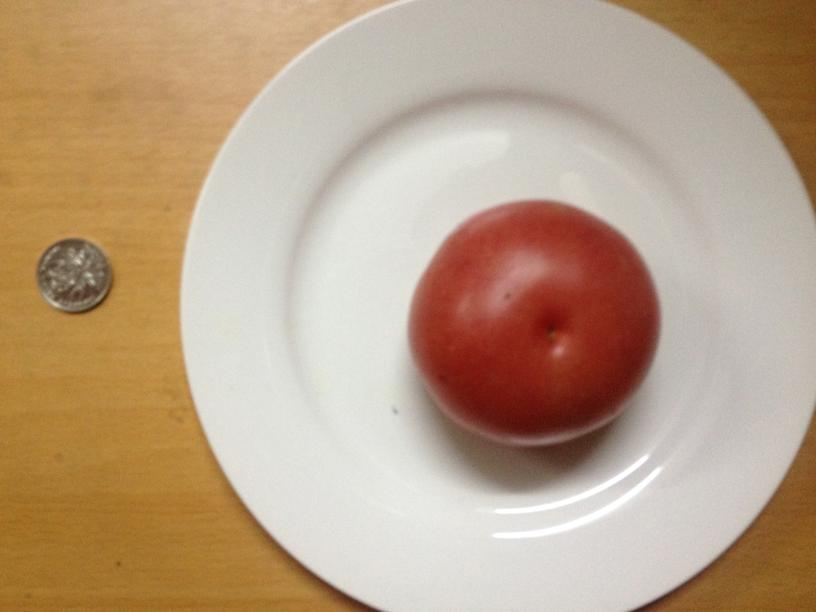coin: (28, 235, 113, 314)
tomato: (392, 198, 664, 446)
